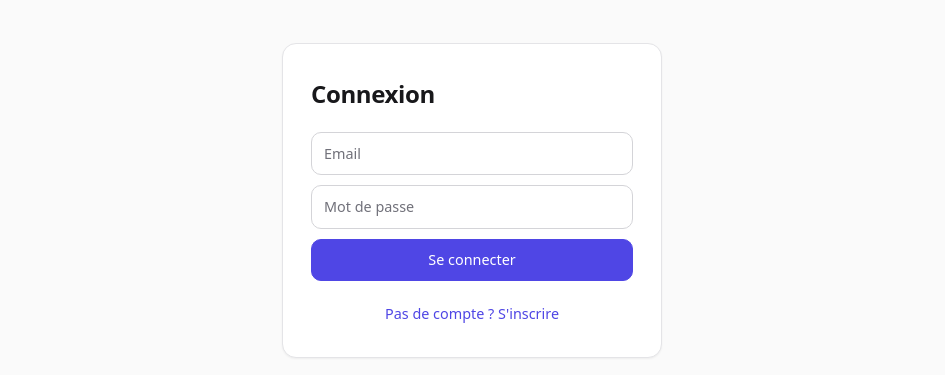
Login › logs in and shows the students page
In the field named "email": {"x": 472, "y": 154} 311,132 -> 633,176, type "admin@example.com"
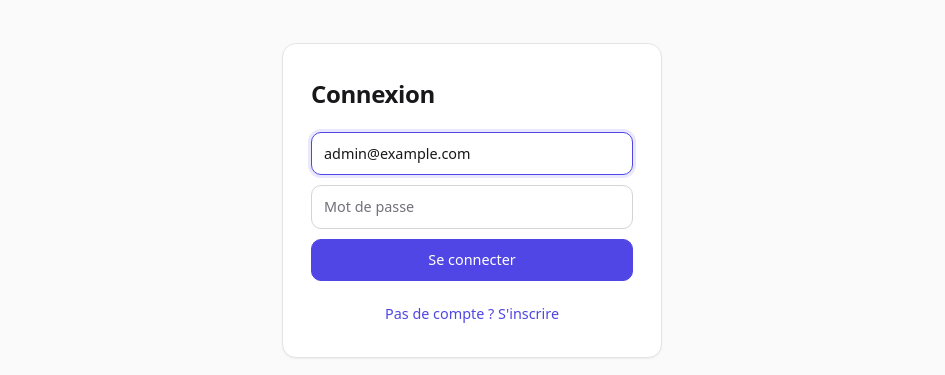
In the password field named "password": {"x": 472, "y": 207} 311,185 -> 633,229, type "Password123!"
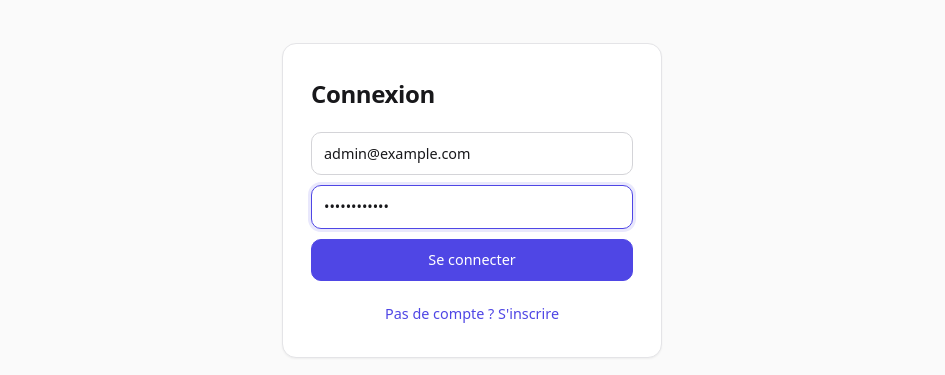
Click the button "Se connecter": {"x": 472, "y": 260} 311,239 -> 633,281
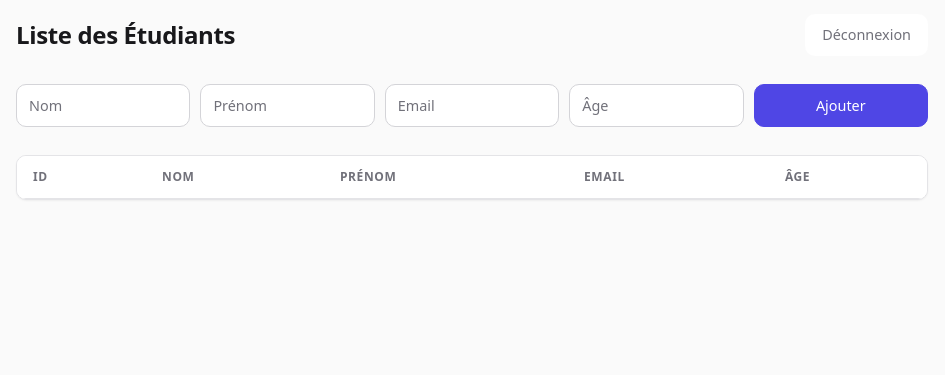
Check: the heading "Liste des Étudiants" is shown, box 16,17 -> 235,53
